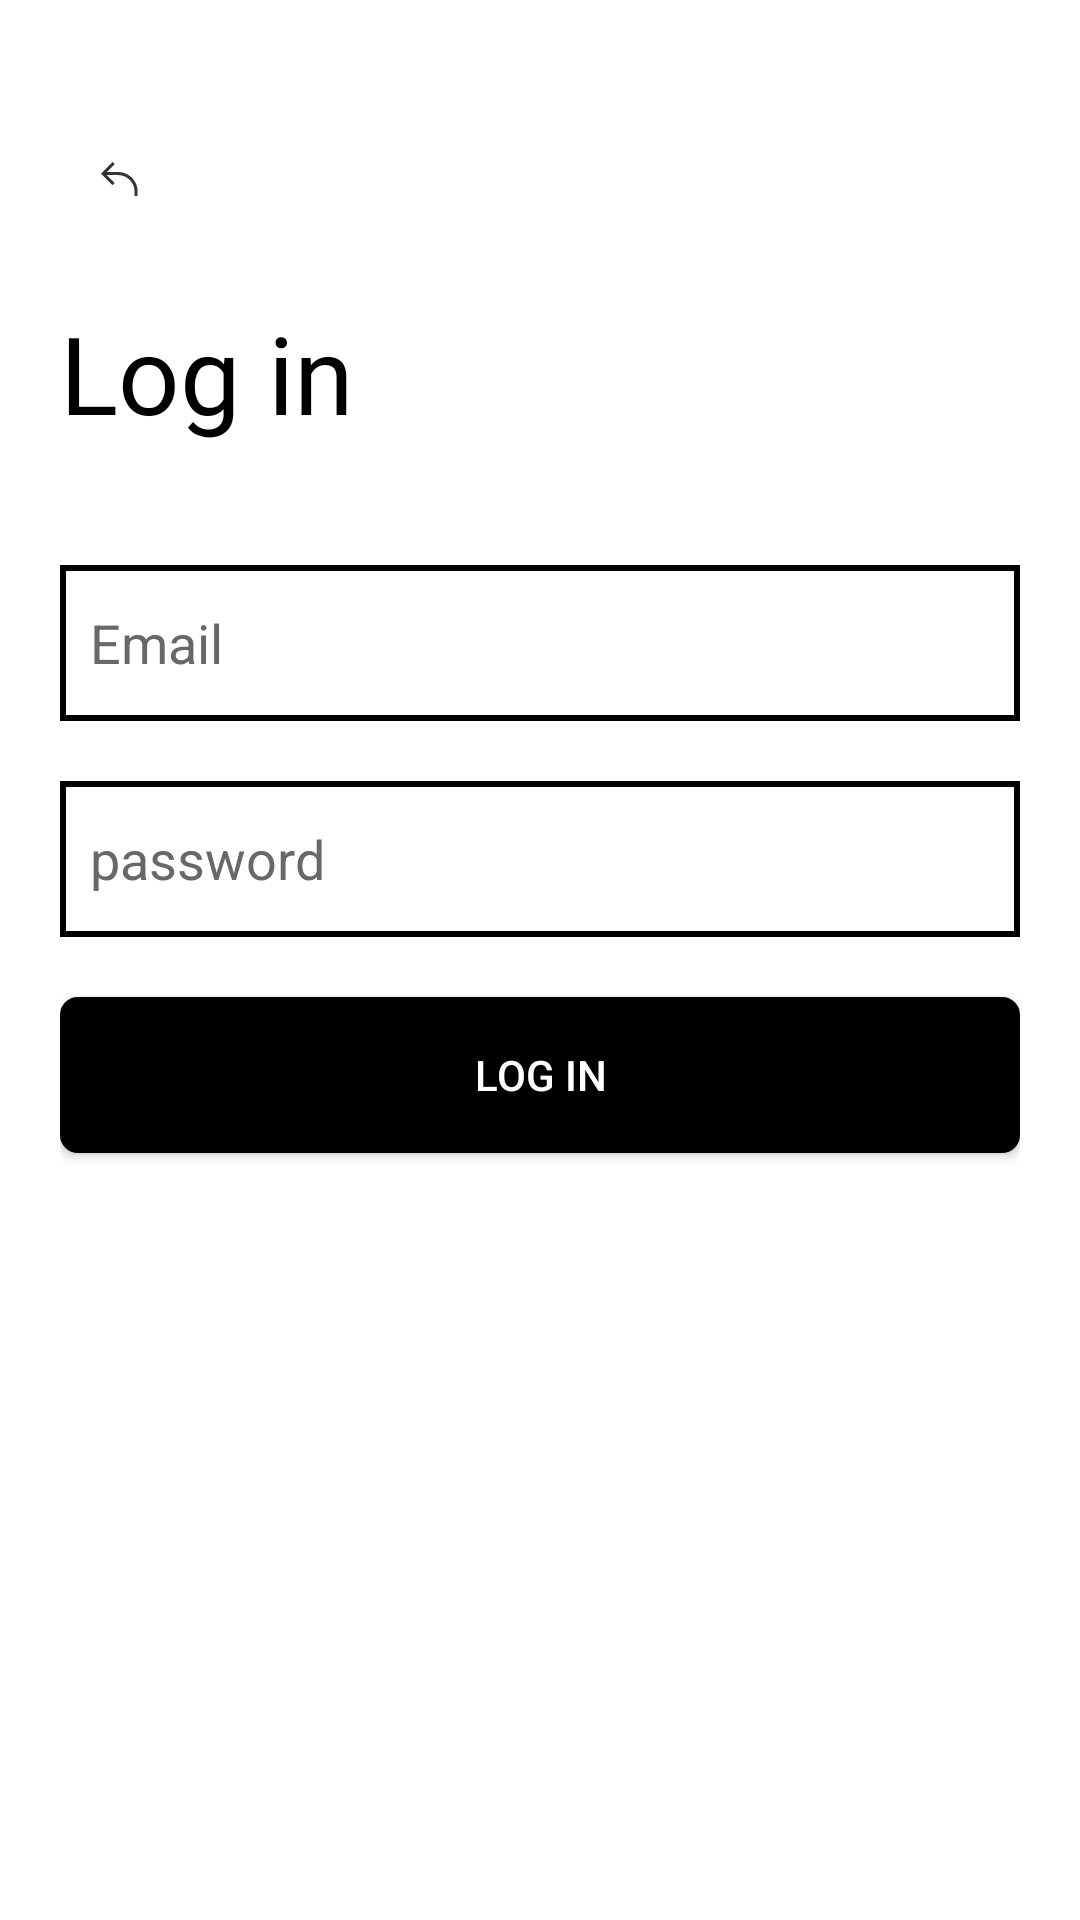

Named icons in this screenshot (1080*1920) and their bounding boxes, (x1, y1, x2, y2):
back: (101, 162, 138, 196)
